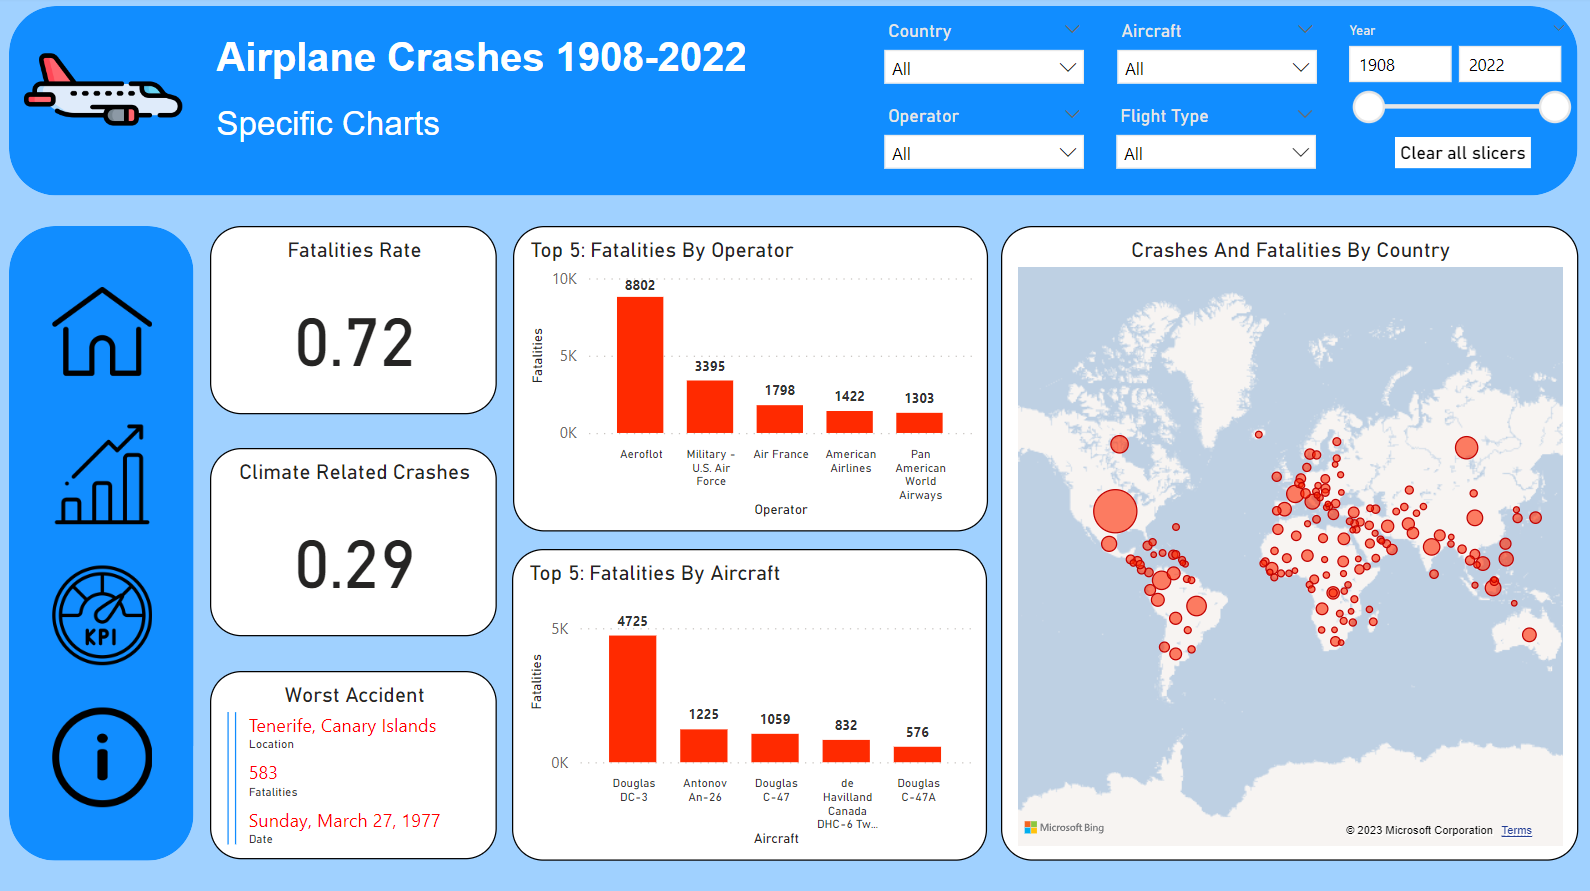

Layout of this report page (visuals, bound fields, positions):
{"tool":"powerbi","page":{"name":"Specific","canvas":[1280,720],"ordinal":1},"visuals":[{"type":"shape","box":[10,7,1258,152],"z":0},{"type":"image","box":[39,222,89.8,91.2],"z":0,"group":"g2"},{"type":"shape","box":[10,184,148,509],"z":1000},{"type":"slicer","fields":{"Values":["clean (2).Country"]},"box":[701.7,14.6,179.8,60.3],"z":2000},{"type":"image","box":[39,450,89.8,91.2],"z":2000,"group":"g2"},{"type":"slicer","fields":{"Values":["clean (2).Operator"]},"box":[701.7,82.6,179.8,60.3],"z":3000},{"type":"image","box":[39,337,90,91],"z":3000,"group":"g2"},{"type":"slicer","fields":{"Values":["clean (2).AC Type"]},"box":[888.3,14.6,179.8,60.3],"z":4000},{"type":"image","box":[39.2,564,89.5,91],"z":4000,"group":"g2"},{"type":"slicer","fields":{"Values":["clean (2).Year"]},"box":[1071.2,15,198.8,98.8],"z":5000},{"type":"slicer","fields":{"Values":["Data.Column"]},"box":[887.9,82.3,180.3,60.8],"z":6000},{"type":"textbox","box":[171,82,305,50],"z":7000},{"type":"actionButton","box":[1121,112,109,25],"z":8000},{"type":"image","box":[14,6,143,137],"z":9000},{"type":"textbox","box":[171,26,454,49],"z":10000},{"type":"map","title":"Crashes And Fatalities By Country","fields":{"Category":["Data.Country"],"Size":["Data.Total Crashes"]},"box":[805,184,463,509],"z":11000},{"type":"columnChart","title":"Top 5: Fatalities By Aircraft","fields":{"Category":["Data.AC Type"],"Y":["Sum(Data.Fatalities)"]},"box":[413,443,381,250],"z":12000},{"type":"columnChart","title":"Top 5: Fatalities By Operator","fields":{"Y":["Sum(Data.Fatalities)"],"Category":["Data.Operator"]},"box":[414,184,381,245],"z":13000},{"type":"group","id":"g1","title":"Group 1","box":[171,184,230,509],"z":14000},{"type":"group","id":"g2","title":"Group 3","box":[39,222,90,433],"z":14001},{"type":"multiRowCard","title":"Worst Accident","fields":{"Values":["Data.Location","Max(Data.Fatalities)","Data.Date.Variation.Date Hierarchy.Year"]},"box":[171,543,230,150],"z":15000,"group":"g1"},{"type":"card","title":"Climate Related Crashes","fields":{"Values":["Sum(Data.Climatic_)"]},"box":[171,364,230,150],"z":16000,"group":"g1"},{"type":"card","title":"Fatalities Rate","fields":{"Values":["Data.Survival Rate"]},"box":[171,184,230,150],"z":17000,"group":"g1"}]}

Visuals, with their boxes in screenshot pixels (x1, y1, x2, y2), scaled from the page's 1280x720 canvas onto the 1590x891 screenshot:
shape: <box>12,9,1575,197</box>
image: <box>48,275,160,388</box>
shape: <box>12,228,196,858</box>
slicer - clean (2).Country: <box>872,18,1095,93</box>
image: <box>48,557,160,670</box>
slicer - clean (2).Operator: <box>872,102,1095,177</box>
image: <box>48,417,160,530</box>
slicer - clean (2).AC Type: <box>1103,18,1327,93</box>
image: <box>49,698,160,811</box>
slicer - clean (2).Year: <box>1331,19,1578,141</box>
slicer - Data.Column: <box>1103,102,1327,177</box>
textbox: <box>212,101,591,163</box>
actionButton: <box>1392,139,1528,170</box>
image: <box>17,7,195,177</box>
textbox: <box>212,32,776,93</box>
"Crashes And Fatalities By Country" map: <box>1000,228,1575,858</box>
"Top 5: Fatalities By Aircraft" columnChart: <box>513,548,986,858</box>
"Top 5: Fatalities By Operator" columnChart: <box>514,228,988,531</box>
"Group 1" group: <box>212,228,498,858</box>
"Group 3" group: <box>48,275,160,811</box>
"Worst Accident" multiRowCard: <box>212,672,498,858</box>
"Climate Related Crashes" card: <box>212,450,498,636</box>
"Fatalities Rate" card: <box>212,228,498,413</box>
